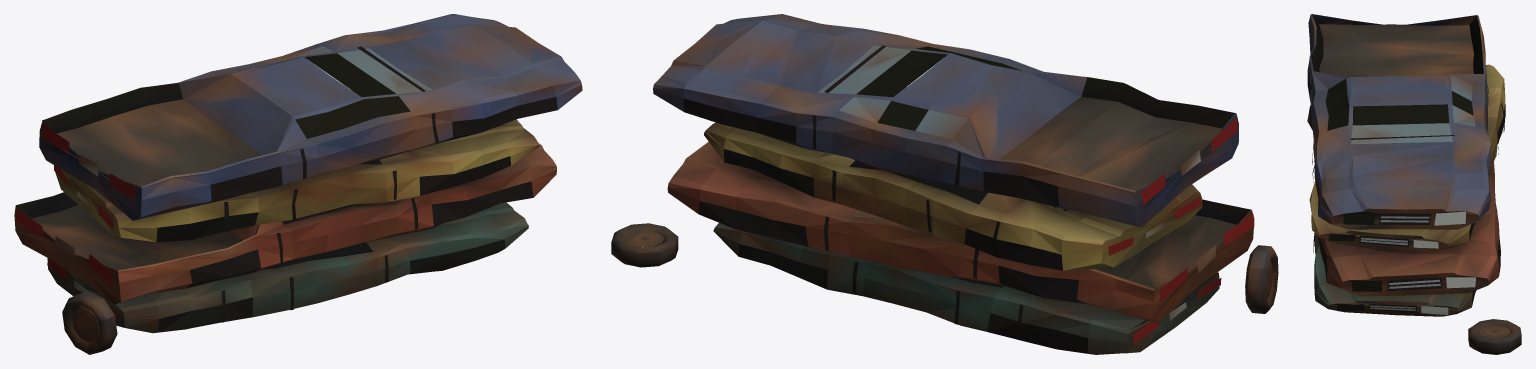
File: wreck_stack.glb
3 views of the same model, side by side, from view 1: azimuth 30°, elevation 25°; view 2: azimuth 150°, elevation 25°; view 3: azimuth 270°, elevation 25° (orthographic). The views are drawn at different scales.
Visible parts, largest first — view 1: WreckStack; view 2: WreckStack; view 3: WreckStack.
Boxes of the visible parts, <box> form: WreckStack: <box>14,14,582,354</box>; WreckStack: <box>611,14,1278,354</box>; WreckStack: <box>1307,14,1521,354</box>.
Size of the model in its own units: 5.94 by 1.93 by 2.41.
